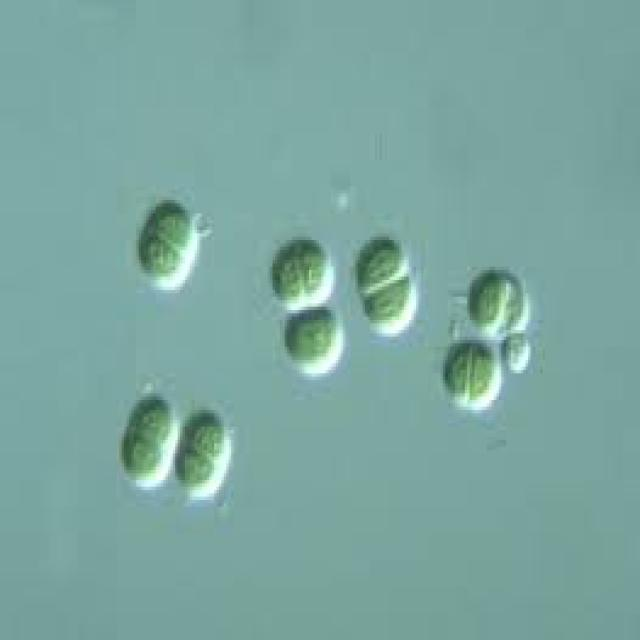Blue Green Algae: (282, 307, 346, 370), (136, 226, 185, 286), (360, 277, 414, 330), (356, 237, 406, 293), (467, 267, 506, 330), (151, 197, 197, 250), (121, 427, 166, 480), (132, 394, 178, 444), (268, 240, 304, 303), (297, 236, 333, 296), (172, 443, 216, 490), (468, 340, 497, 407), (188, 410, 226, 457), (443, 336, 472, 396), (501, 330, 533, 373)
